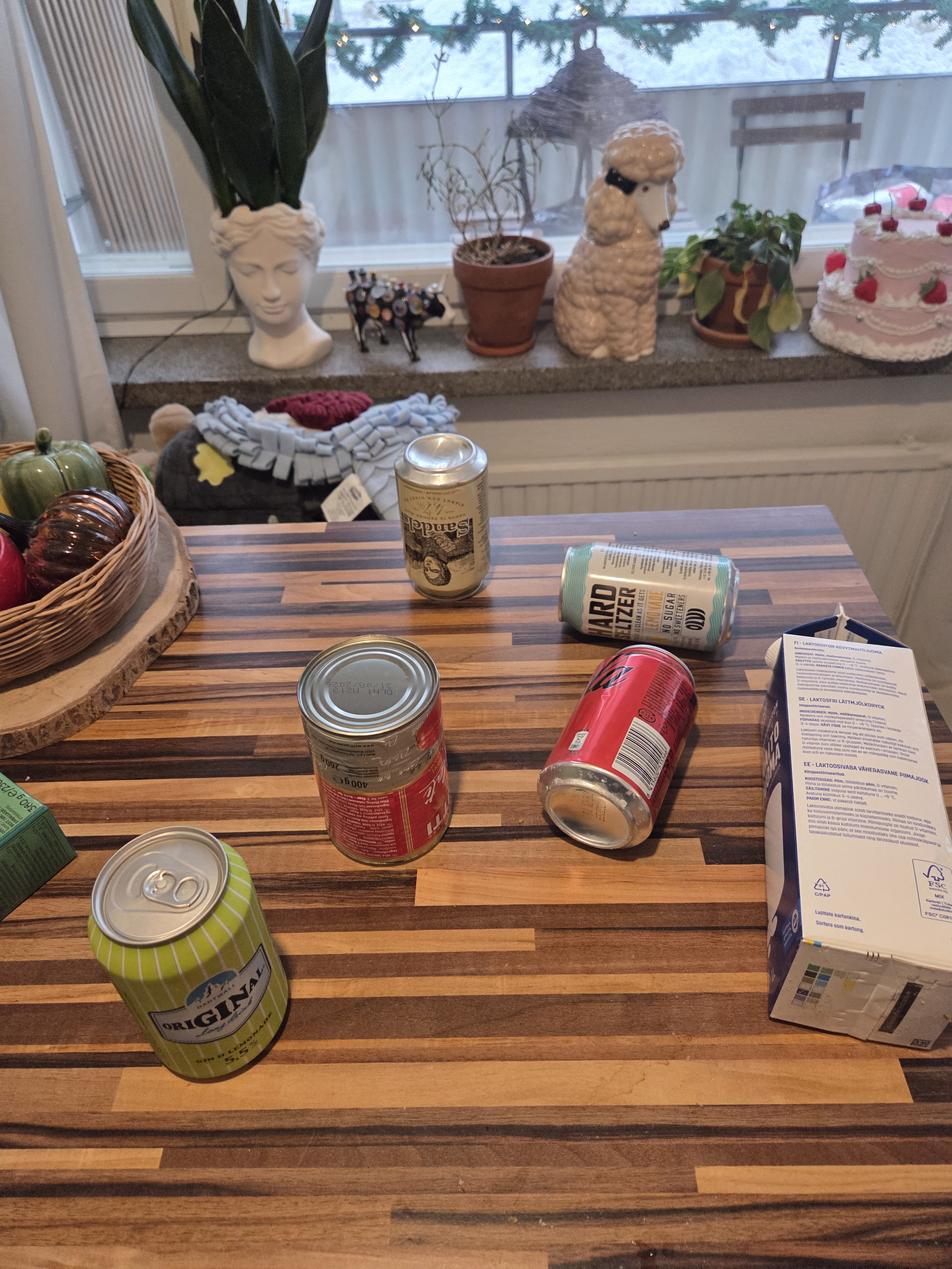Dryckeskartong: (758, 600, 952, 1052)
Konservburk: (295, 637, 454, 869)
Pantburk: (85, 824, 291, 1083), (537, 644, 698, 850), (558, 540, 741, 653), (393, 431, 493, 603)
